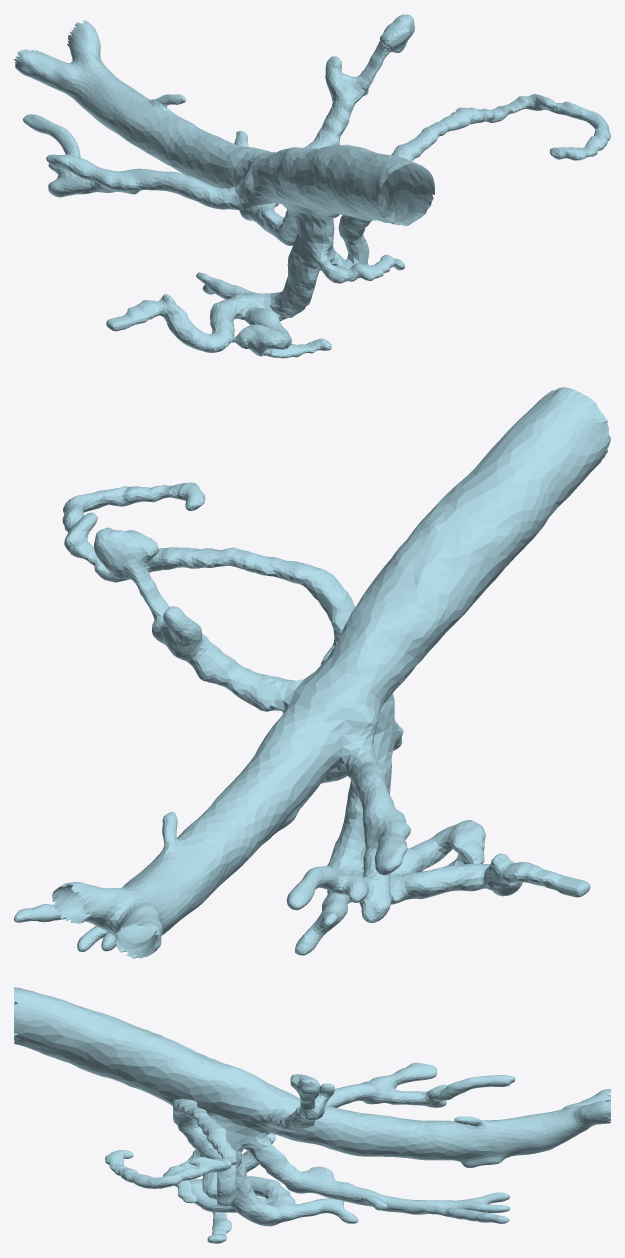
File: artery.obj
3 views of the same model, one above another, from view 1: azimuth 30°, elevation 25°; view 2: azimuth 150°, elevation 25°; view 3: azimuth 270°, elevation 25° (orthographic). The views are drawn at different scales.
Visible parts, largest first — view 1: grp1; view 2: grp1; view 3: grp1.
Boxes of the visible parts, box(x1,y1,x2,y2) form: grp1: box(14, 14, 610, 358); grp1: box(14, 387, 610, 958); grp1: box(14, 987, 610, 1243).
Size of the model in its own units: 141 by 86.85 by 195.
